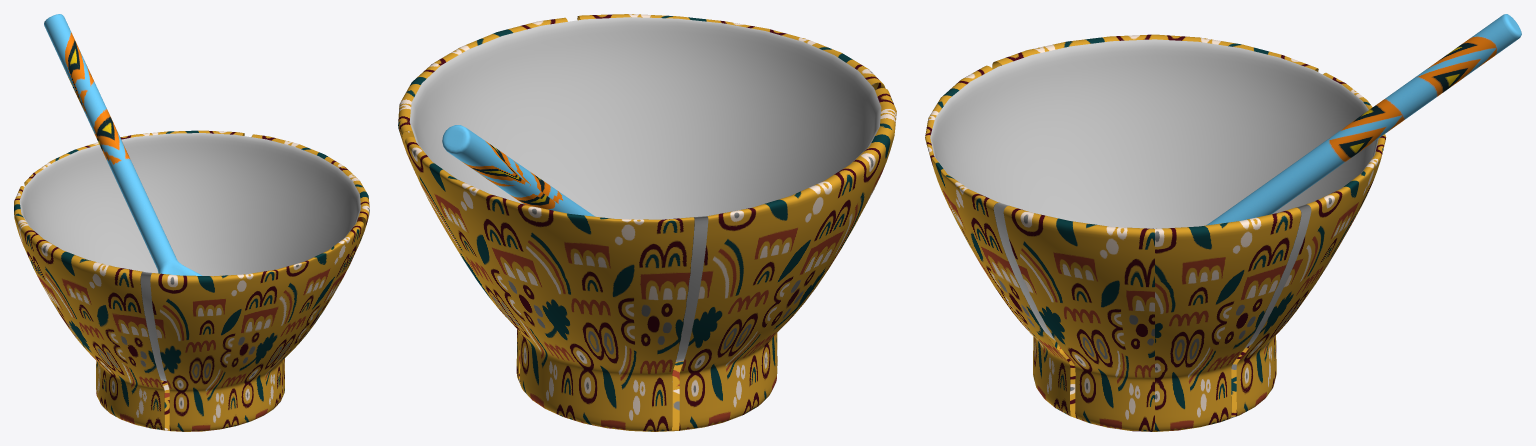
The model's file is Bowl and spoon.fbx.
3 renders of one model, left to right at view 1: azimuth 30°, elevation 25°; view 2: azimuth 150°, elevation 25°; view 3: azimuth 270°, elevation 25°, orthographic. The views are drawn at different scales.
Parts seen in each view (by area): view 1: polySurface1, polySurface2; view 2: polySurface1, polySurface2; view 3: polySurface1, polySurface2.
Boxes of the visible parts, x1,y1,x2,y2 form: polySurface1: (14,130,369,431); polySurface2: (44,14,202,275); polySurface1: (398,14,896,431); polySurface2: (442,125,594,216); polySurface1: (925,34,1386,431); polySurface2: (1206,14,1521,225).
Bounding box in the file's own units: 17.67 × 15.34 × 22.51.
